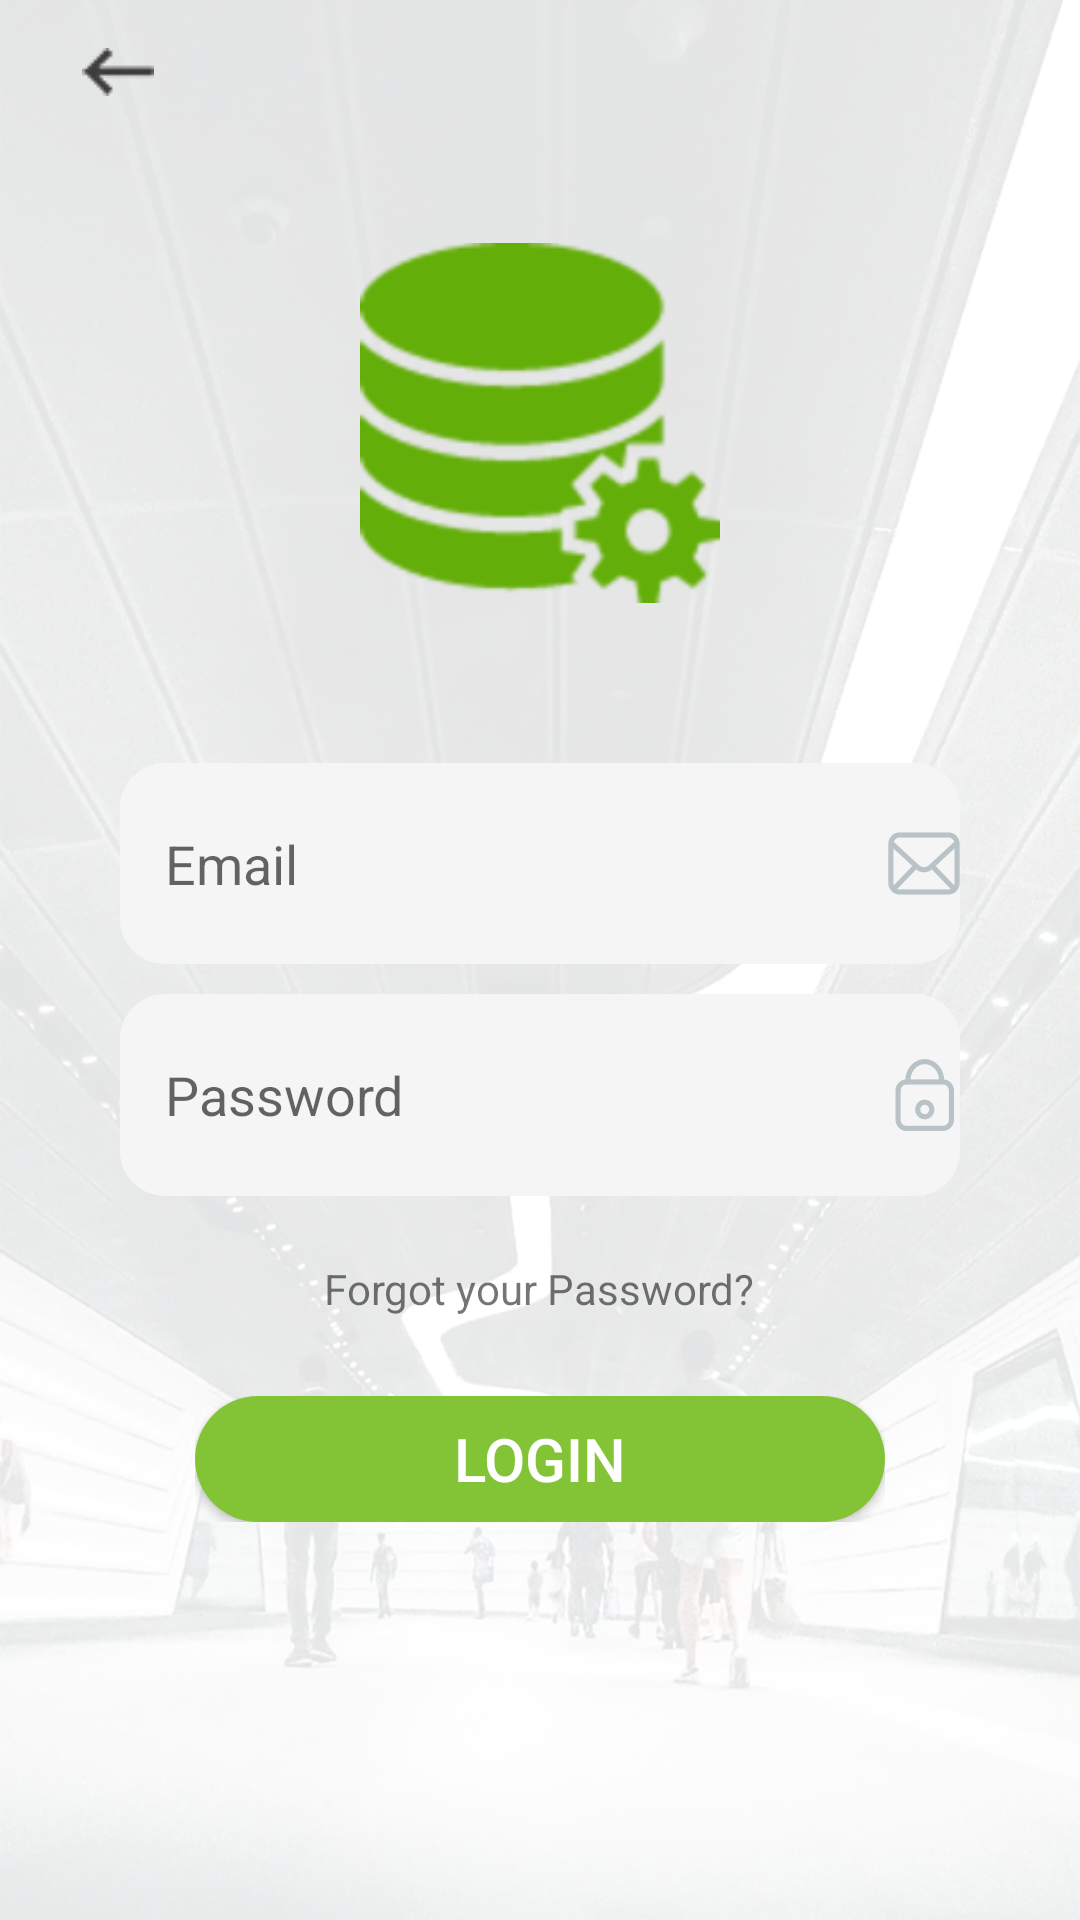

Point at icon controls on the screen. Image size 1080*1920, points as (x,y).
back: (118,72)
